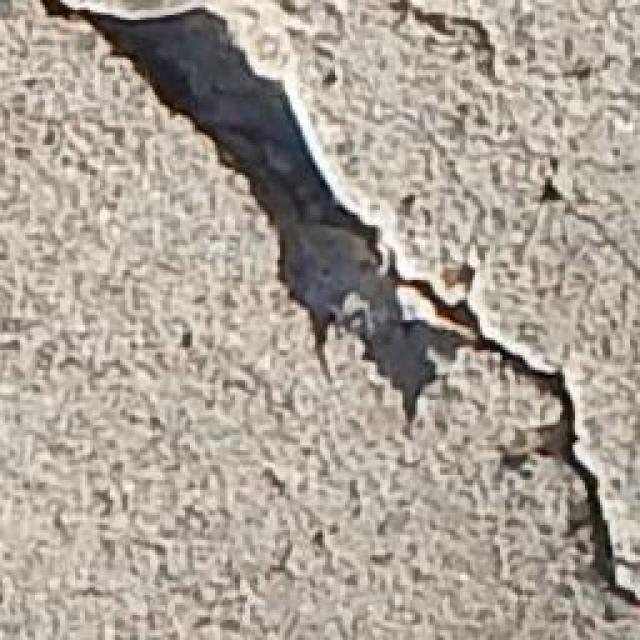concrete-crack: (35, 0, 640, 638)
